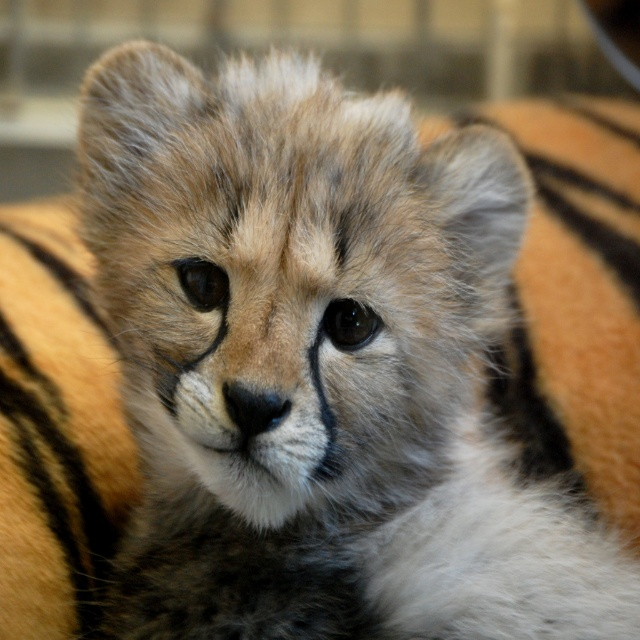Cheetah: (65, 35, 640, 640)
